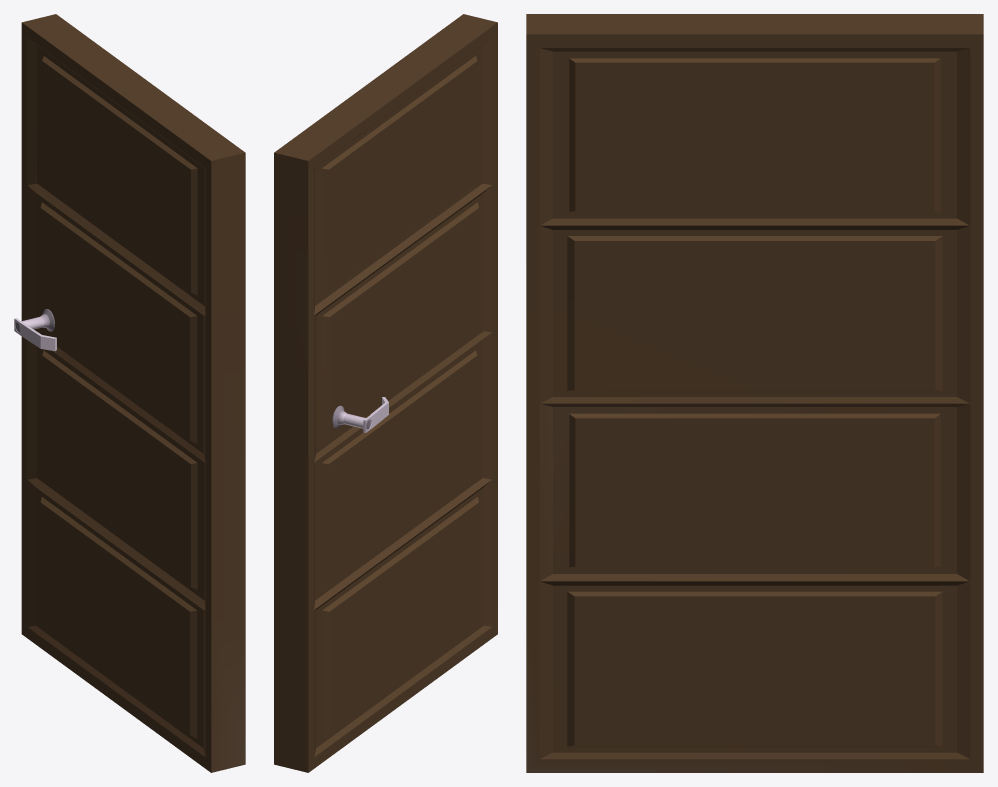
The model's file is wooden_door.fbx.
The picture shows the model from 3 angles, left to right: view 1: azimuth 30°, elevation 25°; view 2: azimuth 150°, elevation 25°; view 3: azimuth 270°, elevation 25°; orthographic projection. The views are drawn at different scales.
Visible parts, largest first — view 1: DoorFrame, DoorHandle; view 2: DoorFrame, DoorHandle; view 3: DoorFrame.
Part boxes in pixels (bbox=[...]): DoorFrame: bbox=[21, 14, 245, 772]; DoorHandle: bbox=[14, 309, 56, 351]; DoorFrame: bbox=[274, 14, 497, 772]; DoorHandle: bbox=[332, 397, 388, 432]; DoorFrame: bbox=[526, 14, 983, 772].
Size of the model in its own units: 48.37 by 417 by 234.
